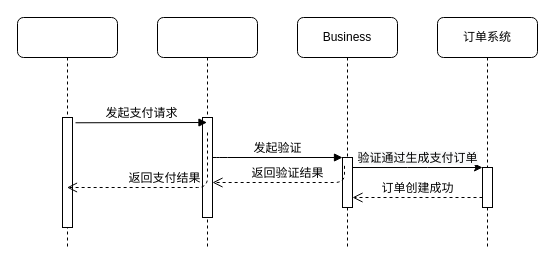
Image size: 555x265. Some labels were removed from this diagram. The shapes that lost their labels are listed below. From the top down, each one's centre as x and y in pixels, then its label:
[67,132]: 用户
[207,132]: 支付系统
